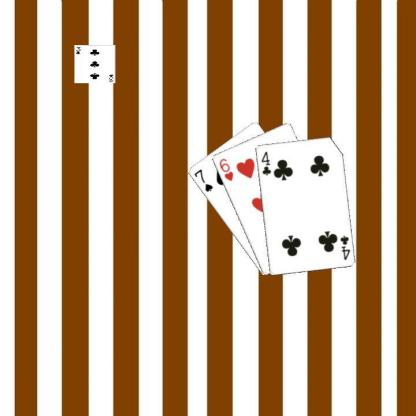4C: (338, 233, 352, 261), (258, 149, 272, 176)
6H: (216, 156, 235, 182)
7S: (191, 166, 214, 193)
